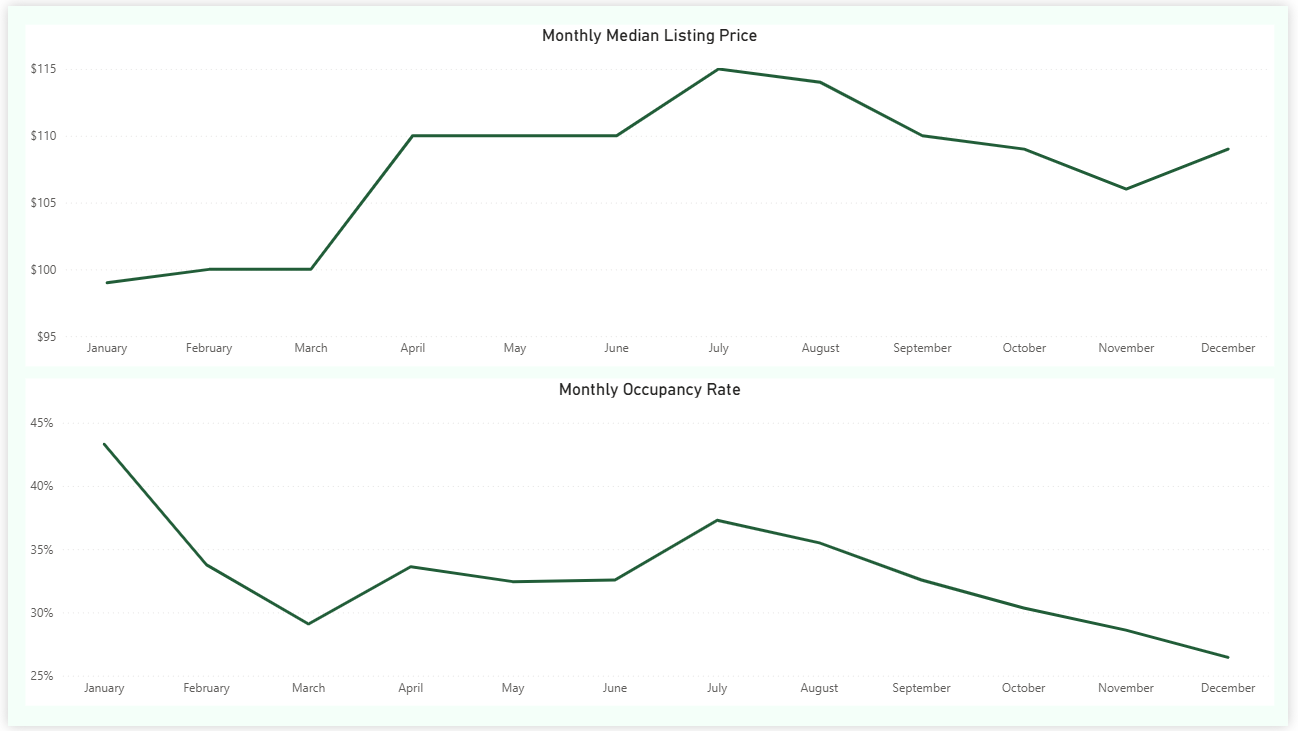

Layout of this report page (visuals, bound fields, positions):
{"tool":"powerbi","page":{"name":"seasonality","canvas":[1280,720],"ordinal":1},"visuals":[{"type":"lineChart","title":"Monthly Median Listing Price","fields":{"Category":["date_table.month_name"],"Y":["fact_calendar.calendar_median_price"]},"box":[17.1,18.6,1248.6,341.4],"z":0},{"type":"lineChart","title":"Monthly Occupancy Rate","fields":{"Category":["date_table.month_name"],"Y":["fact_calendar.occupancy_rate"]},"box":[17.1,372.9,1248.6,327.1],"z":1000}]}

Visuals, with their boxes in screenshot pixels (x1, y1, x2, y2), scaled from the page's 1280x720 canvas onto the 1298x731 screenshot:
"Monthly Median Listing Price" lineChart: x1=17 y1=19 x2=1283 y2=366
"Monthly Occupancy Rate" lineChart: x1=17 y1=379 x2=1283 y2=711
